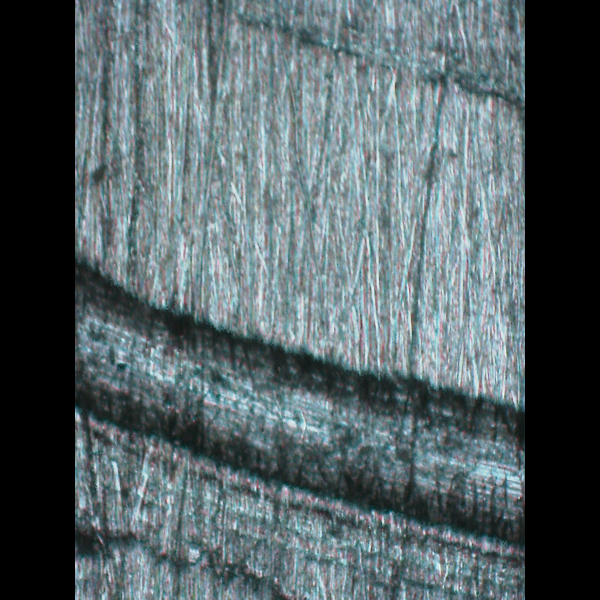d: (75, 239, 523, 600)
